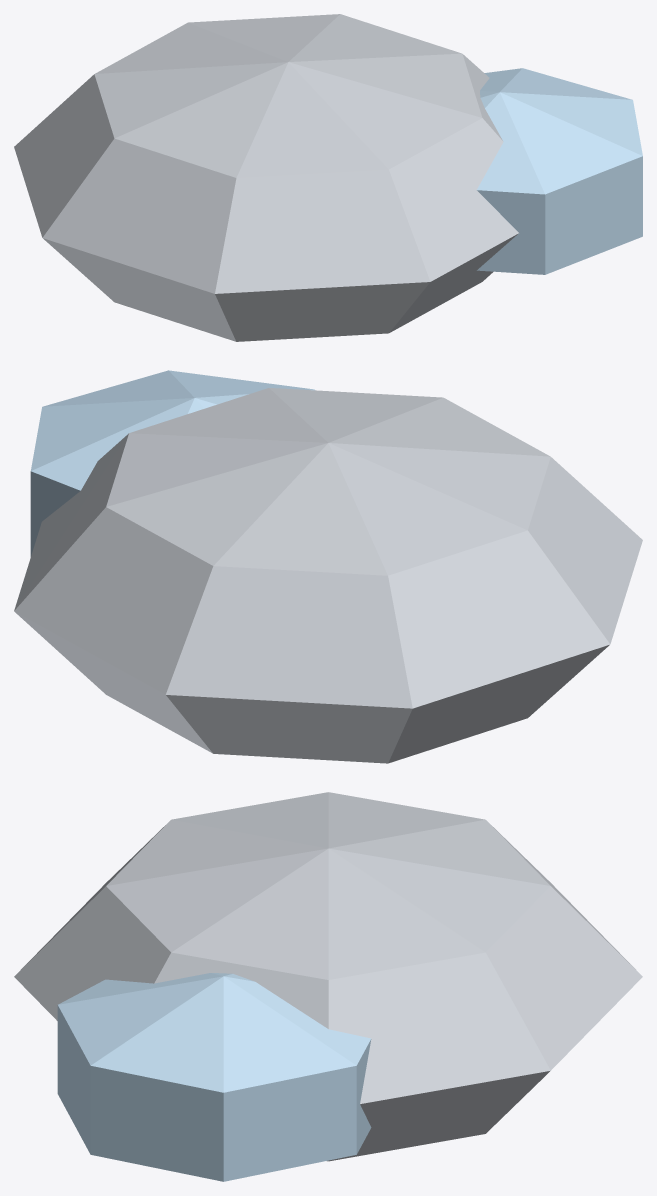
The model's file is monticulo_nieve.obj.
3 renders of one model, top to bottom at view 1: azimuth 30°, elevation 25°; view 2: azimuth 150°, elevation 25°; view 3: azimuth 270°, elevation 25°, orthographic. The views are drawn at different scales.
Parts seen in each view (by area): view 1: monticulo_nieve; view 2: monticulo_nieve; view 3: monticulo_nieve.
Boxes of the visible parts, x1,y1,x2,y2 form: monticulo_nieve: (14, 14, 642, 341); monticulo_nieve: (14, 370, 642, 763); monticulo_nieve: (14, 792, 642, 1181).
Bounding box in the file's own units: 5.3 × 2.16 × 4.8.
